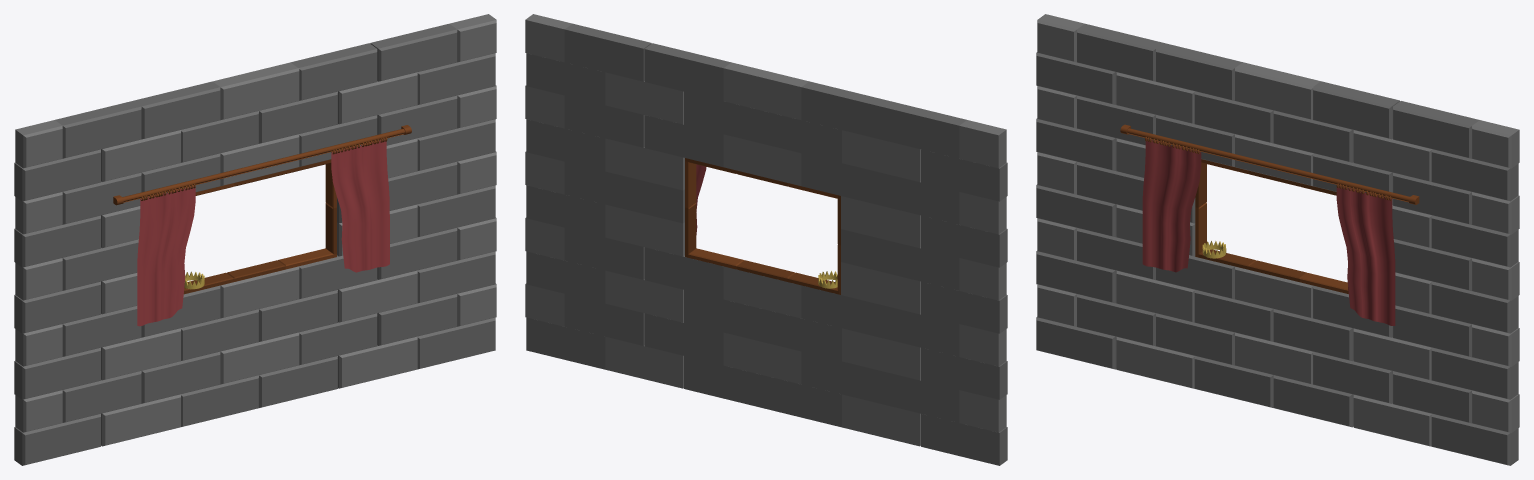
Rendered from REFINEDcastlewindow.fbx.
3 views of the same model, side by side, from view 1: azimuth 30°, elevation 25°; view 2: azimuth 150°, elevation 25°; view 3: azimuth 330°, elevation 25° (orthographic).
Parts seen in each view (by area): view 1: BézierCurve.001, BézierCurve, Cube.003, Cube.566, Cube.567, Cube.568, Cube.573, Cube.007, Cube.008, Cube.010, Cube.048, Cube.009 (+52 smaller); view 2: Cube.003, Cube.567, Cube.566, Cube.573, Cube.568, Cube.007, Cube.008, Cube.009, Cube.010, Cube.048, Cube.002, Cube.001 (+52 smaller); view 3: BézierCurve, BézierCurve.001, Cube.573, Cube.566, Cube.003, Cube.567, Cube.568, Cube.013, Cube.049, Cube.011, Cube.012, Cube.014 (+52 smaller).
Boxes of the visible parts, x1,y1,x2,y2 form: BézierCurve.001: (331,139,389,272); BézierCurve: (137,186,195,326); Cube.003: (370,23,457,81); Cube.566: (55,100,141,158); Cube.567: (134,81,220,139); Cube.568: (213,62,299,119); Cube.573: (291,43,377,100); Cube.007: (14,149,100,201); Cube.008: (14,215,100,267); Cube.010: (14,347,100,399); Cube.048: (14,414,100,465); Cube.009: (14,281,100,333); Cube.003: (564,23,651,81); Cube.567: (801,81,887,139); Cube.566: (880,100,966,158); Cube.573: (644,43,730,101); Cube.568: (723,62,808,119); Cube.007: (921,149,1007,201); Cube.008: (921,215,1007,267); Cube.009: (921,281,1007,333); Cube.010: (921,347,1007,399); Cube.048: (921,414,1007,465); Cube.002: (564,95,644,147); Cube.001: (564,228,644,279); BézierCurve: (1142,139,1201,272); BézierCurve.001: (1336,186,1395,325); Cube.573: (1313,81,1399,139); Cube.566: (1077,23,1163,81); Cube.003: (1393,101,1479,158); Cube.567: (1156,43,1242,100); Cube.568: (1235,62,1320,119); Cube.013: (1431,281,1518,333); Cube.049: (1431,414,1518,465); Cube.011: (1431,149,1518,201); Cube.012: (1431,215,1518,267); Cube.014: (1431,348,1518,399).
Size of the model in its own units: 601 by 400 by 33.89.
